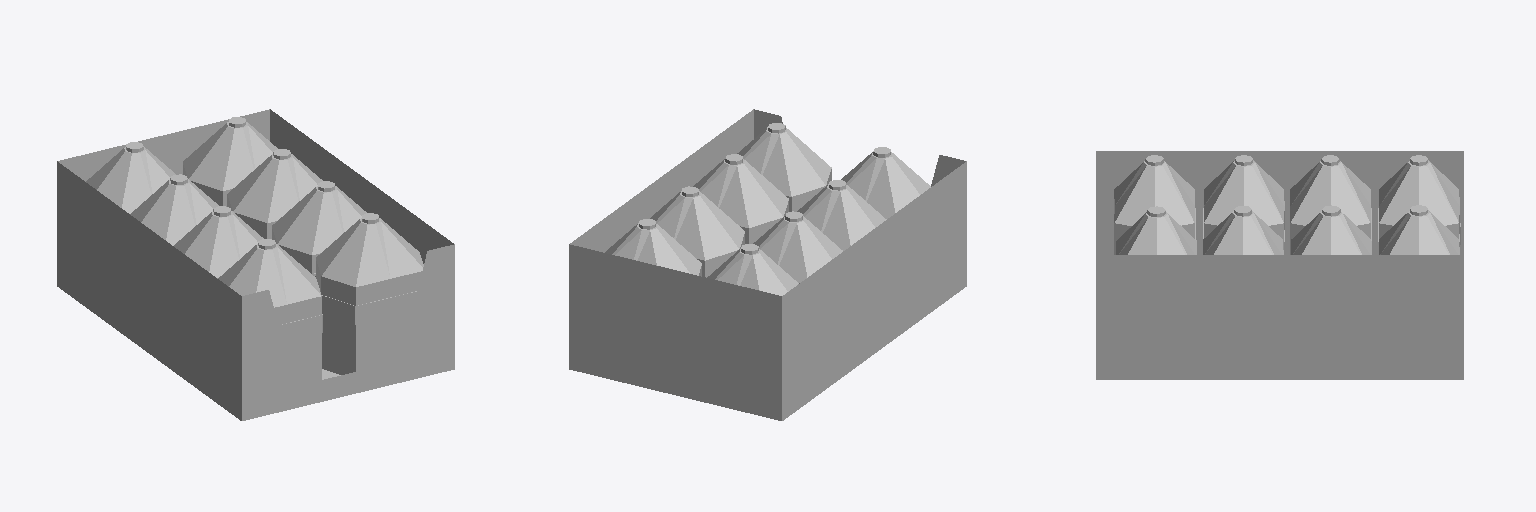
File: BottlePackaged.obj
3 renders of one model, left to right at view 1: azimuth 30°, elevation 25°; view 2: azimuth 150°, elevation 25°; view 3: azimuth 270°, elevation 25°, orthographic.
Visible parts, largest first — view 1: Cube, Cylinder.001, Cylinder_Cylinder.002, Cylinder.004_Cylinder.005, Cylinder.005_Cylinder.006, Cylinder.007_Cylinder.008, Cylinder.003_Cylinder.004, Cylinder.006_Cylinder.007, Cylinder.002_Cylinder.003; view 2: Cube, Cylinder.005_Cylinder.006, Cylinder.004_Cylinder.005, Cylinder.001, Cylinder_Cylinder.002, Cylinder.002_Cylinder.003, Cylinder.003_Cylinder.004, Cylinder.007_Cylinder.008, Cylinder.006_Cylinder.007; view 3: Cube, Cylinder_Cylinder.002, Cylinder.003_Cylinder.004, Cylinder.002_Cylinder.003, Cylinder.006_Cylinder.007, Cylinder.007_Cylinder.008, Cylinder.004_Cylinder.005, Cylinder.005_Cylinder.006, Cylinder.001.
Boxes of the visible parts, x1=… form: Cube: x1=57, y1=109, x2=454, y2=420; Cylinder.001: x1=315, y1=213, x2=423, y2=374; Cylinder_Cylinder.002: x1=218, y1=239, x2=322, y2=386; Cylinder.004_Cylinder.005: x1=227, y1=149, x2=322, y2=238; Cylinder.005_Cylinder.006: x1=272, y1=181, x2=366, y2=275; Cylinder.007_Cylinder.008: x1=183, y1=117, x2=277, y2=206; Cylinder.003_Cylinder.004: x1=174, y1=206, x2=263, y2=278; Cylinder.006_Cylinder.007: x1=86, y1=142, x2=175, y2=213; Cylinder.002_Cylinder.003: x1=130, y1=174, x2=218, y2=245; Cube: x1=569, y1=109, x2=966, y2=420; Cylinder.005_Cylinder.006: x1=693, y1=154, x2=788, y2=243; Cylinder.004_Cylinder.005: x1=650, y1=186, x2=744, y2=277; Cylinder.001: x1=737, y1=123, x2=831, y2=211; Cylinder_Cylinder.002: x1=841, y1=147, x2=930, y2=218; Cylinder.002_Cylinder.003: x1=753, y1=211, x2=842, y2=283; Cylinder.003_Cylinder.004: x1=797, y1=180, x2=886, y2=250; Cylinder.007_Cylinder.008: x1=605, y1=219, x2=701, y2=276; Cylinder.006_Cylinder.007: x1=707, y1=244, x2=798, y2=295; Cube: x1=1096, y1=151, x2=1463, y2=379; Cylinder_Cylinder.002: x1=1114, y1=155, x2=1195, y2=254; Cylinder.003_Cylinder.004: x1=1203, y1=155, x2=1284, y2=254; Cylinder.002_Cylinder.003: x1=1290, y1=155, x2=1371, y2=254; Cylinder.006_Cylinder.007: x1=1378, y1=155, x2=1460, y2=254; Cylinder.007_Cylinder.008: x1=1379, y1=205, x2=1459, y2=254; Cylinder.004_Cylinder.005: x1=1291, y1=205, x2=1371, y2=254; Cylinder.005_Cylinder.006: x1=1203, y1=206, x2=1283, y2=254; Cylinder.001: x1=1116, y1=206, x2=1196, y2=254.
Size of the model in its own units: 3.56 by 2.3 by 5.34.